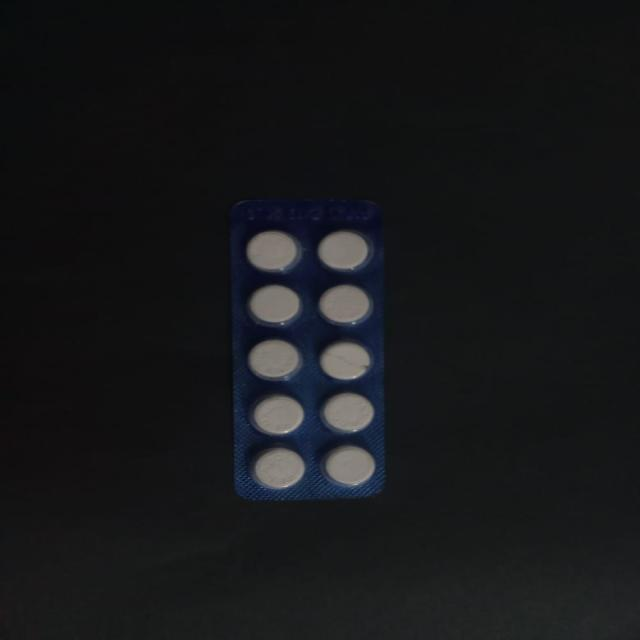defect: (317, 336, 376, 382)
